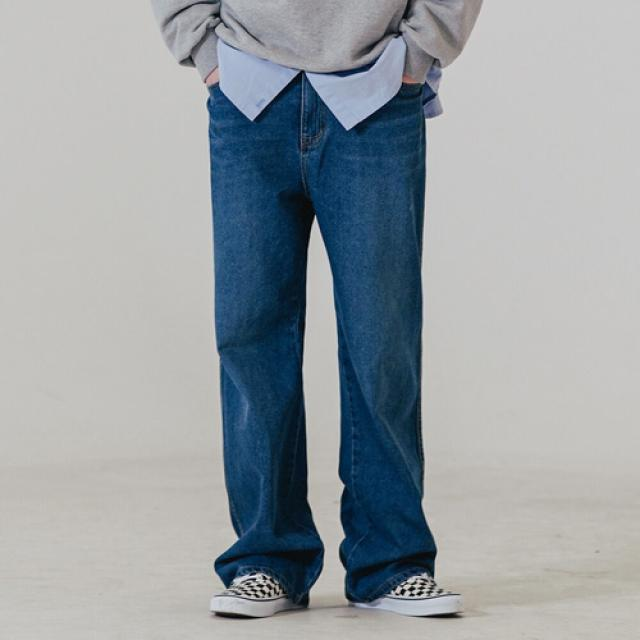dress: (202, 38, 438, 584)
